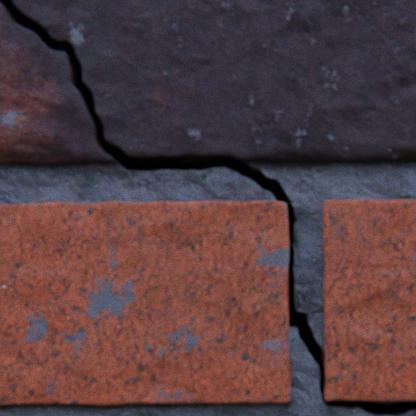brick: (0, 201, 291, 405), (323, 199, 415, 401)
broken_brick: (13, 0, 415, 163), (0, 2, 118, 165)
crack: (0, 0, 415, 415)
